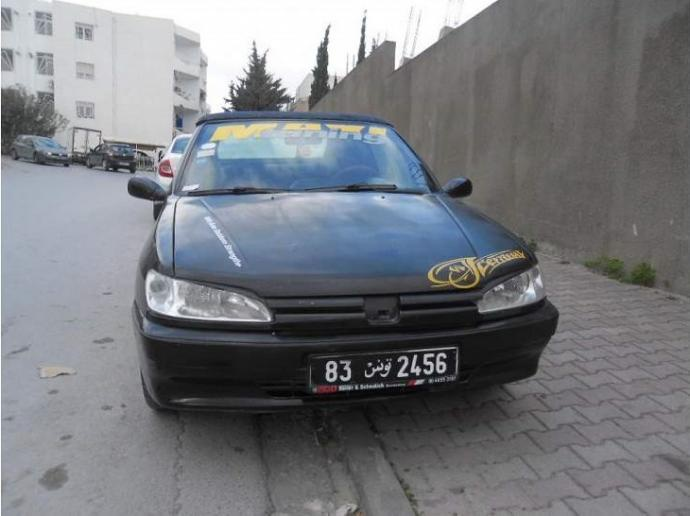LP: (306, 345, 469, 386)
